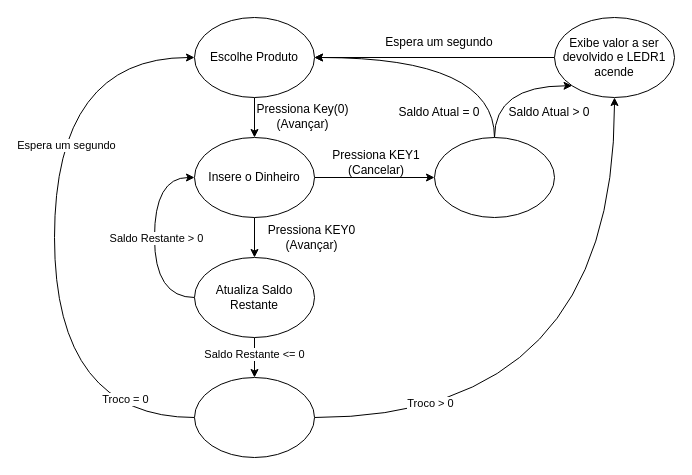
Some shapes in this 692 by 475 pixel diagram are drawn without their labels. Each missing label, with the box of its shape:
Cancela: (434, 136, 554, 218)
Libera o produto e acende o LEDR0: (194, 376, 314, 458)
